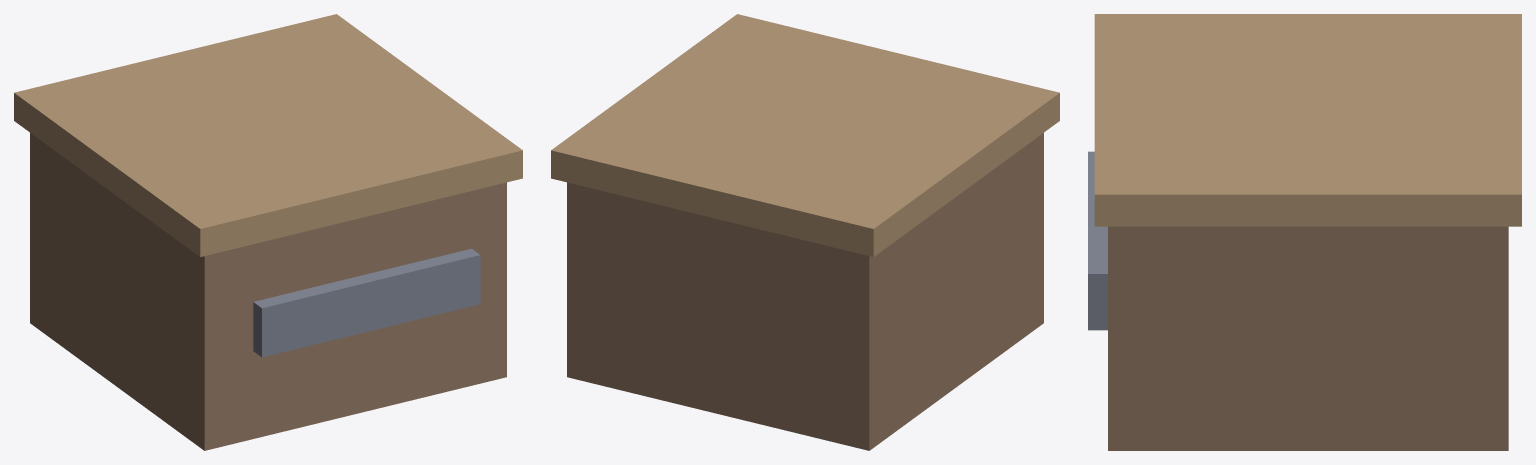
Rendered from caja_madera.glb.
The picture shows the model from 3 angles, left to right: view 1: azimuth 30°, elevation 25°; view 2: azimuth 150°, elevation 25°; view 3: azimuth 270°, elevation 25°; orthographic projection. The views are drawn at different scales.
Visible parts, largest first — view 1: part_000, part_001, part_002; view 2: part_000, part_001; view 3: part_001, part_000, part_002.
Boxes of the visible parts, x1,y1,x2,y2 form: part_000: [30, 133, 506, 450]; part_001: [14, 14, 522, 256]; part_002: [253, 248, 480, 357]; part_000: [567, 133, 1043, 450]; part_001: [551, 14, 1059, 256]; part_001: [1094, 14, 1521, 226]; part_000: [1108, 226, 1508, 450]; part_002: [1088, 151, 1107, 330].
Size of the model in its own units: 0.96 by 0.65 by 0.975.
